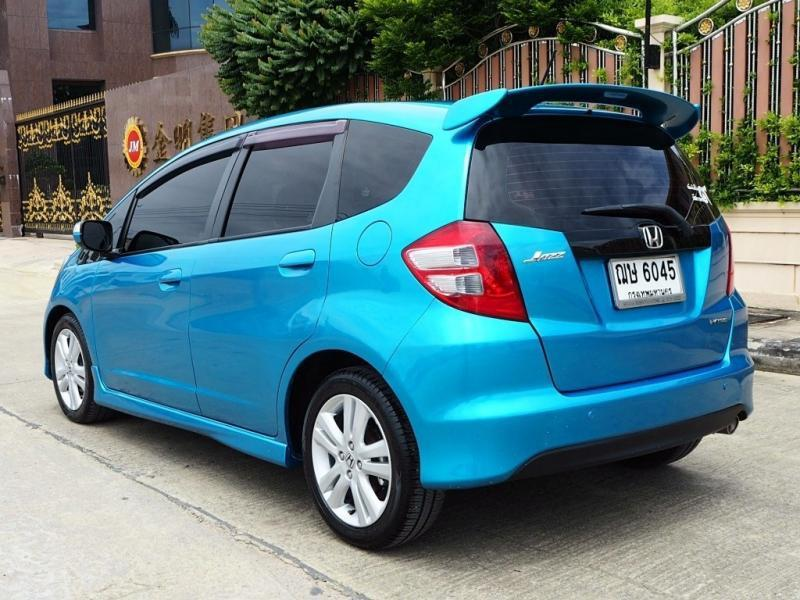Hatchback: (32, 73, 766, 523)
